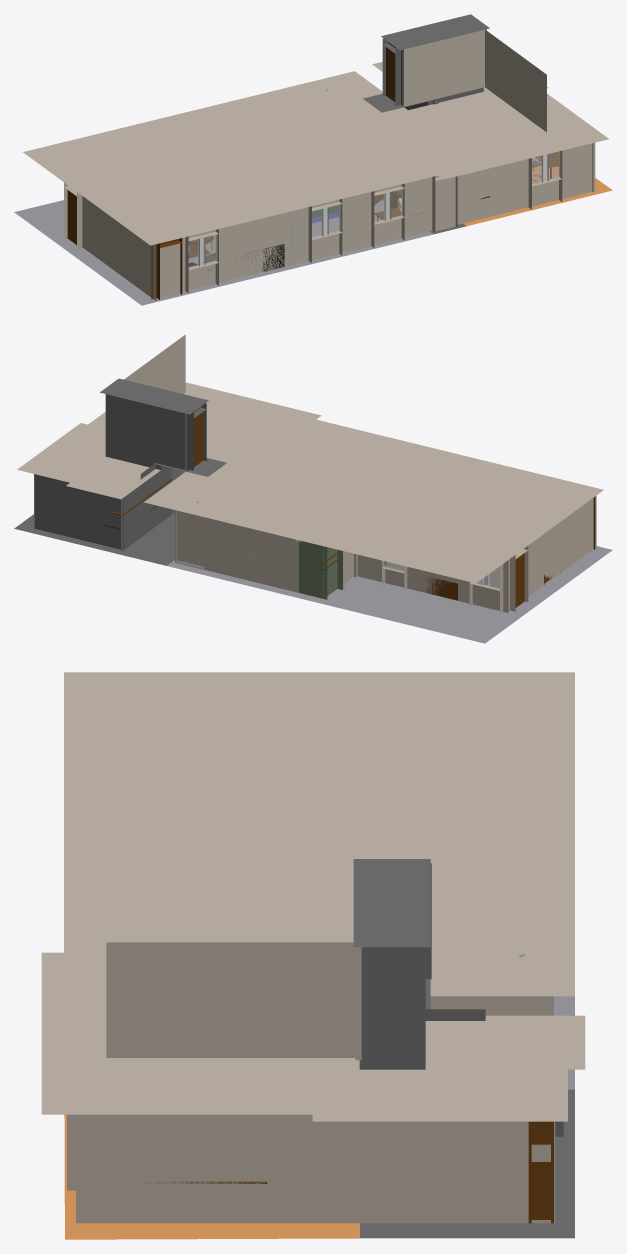
File: House_V2.fbx
3 views of the same model, one above another, from view 1: azimuth 30°, elevation 25°; view 2: azimuth 150°, elevation 25°; view 3: azimuth 270°, elevation 25° (orthographic). The views are drawn at different scales.
Parts seen in each view (by area): view 1: ceiling_01, ceiling_02, floor, Cube.013, Plane.003, Plane, Plane.024, Plane.042, Plane.033, Plane.048, Plane.047, Plane.046 (+18 smaller); view 2: ceiling_01, floor, Plane.008, Plane.004, Plane.025, Plane, ceiling_02, ceiling_00, Plane.006, ceiling_03, Plane.024, Plane.033 (+11 smaller); view 3: ceiling_01, Plane.002, Plane.024, ceiling_02, ceiling_00, floor, ceiling_03, Plane.033, buffet.002, Plane.041, Plane.009, Plane.011 (+1 smaller).
Boxes of the visible parts, <box> form: ceiling_01: <box>23,71,481,245</box>; ceiling_02: <box>408,92,608,179</box>; floor: <box>14,157,612,305</box>; Cube.013: <box>402,29,486,106</box>; Plane.003: <box>219,208,305,282</box>; Plane: <box>84,197,156,300</box>; Plane.024: <box>485,29,546,132</box>; Plane.042: <box>458,160,522,224</box>; Plane.033: <box>381,14,489,50</box>; Plane.048: <box>562,142,595,198</box>; Plane.047: <box>342,193,368,252</box>; Plane.046: <box>405,178,427,237</box>; ceiling_01: <box>144,409,603,583</box>; floor: <box>14,514,612,643</box>; Plane.008: <box>175,510,327,599</box>; Plane.004: <box>34,474,123,549</box>; Plane.025: <box>105,394,188,470</box>; Plane: <box>528,495,596,596</box>; ceiling_02: <box>88,382,321,455</box>; ceiling_00: <box>17,423,105,482</box>; Plane.006: <box>121,467,171,551</box>; ceiling_03: <box>66,457,160,499</box>; Plane.024: <box>124,334,185,393</box>; Plane.033: <box>100,378,208,414</box>; ceiling_01: <box>64,672,574,996</box>; Plane.002: <box>76,1114,555,1223</box>; Plane.024: <box>106,942,425,1057</box>; ceiling_02: <box>41,952,359,1114</box>; ceiling_00: <box>312,1067,567,1121</box>; floor: <box>64,996,574,1239</box>; ceiling_03: <box>425,1015,585,1069</box>; Plane.033: <box>353,859,430,947</box>; buffet.002: <box>528,1121,553,1223</box>; Plane.041: <box>359,1040,425,1069</box>; Plane.009: <box>490,996,553,1015</box>; Plane.011: <box>430,996,490,1015</box>.
Bounding box in the file's own units: 1705 × 475 × 851.
